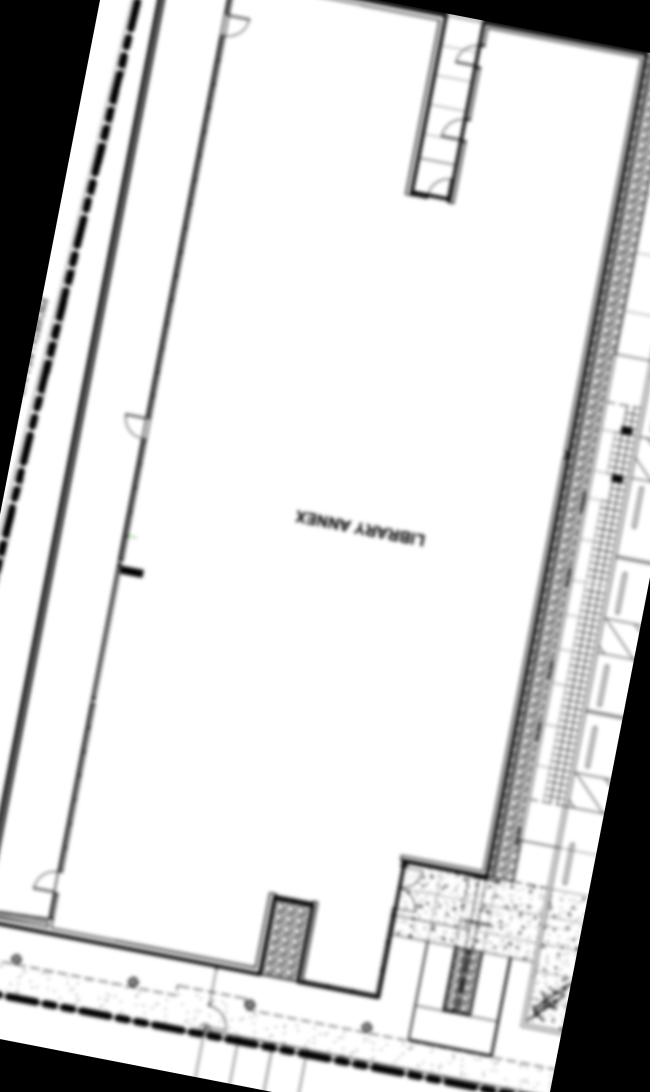door: (214, 7, 257, 42), (117, 408, 155, 445), (200, 996, 235, 1035), (423, 168, 457, 205), (439, 109, 472, 147), (32, 861, 64, 898), (456, 36, 482, 69)
double door: (391, 862, 426, 918)
